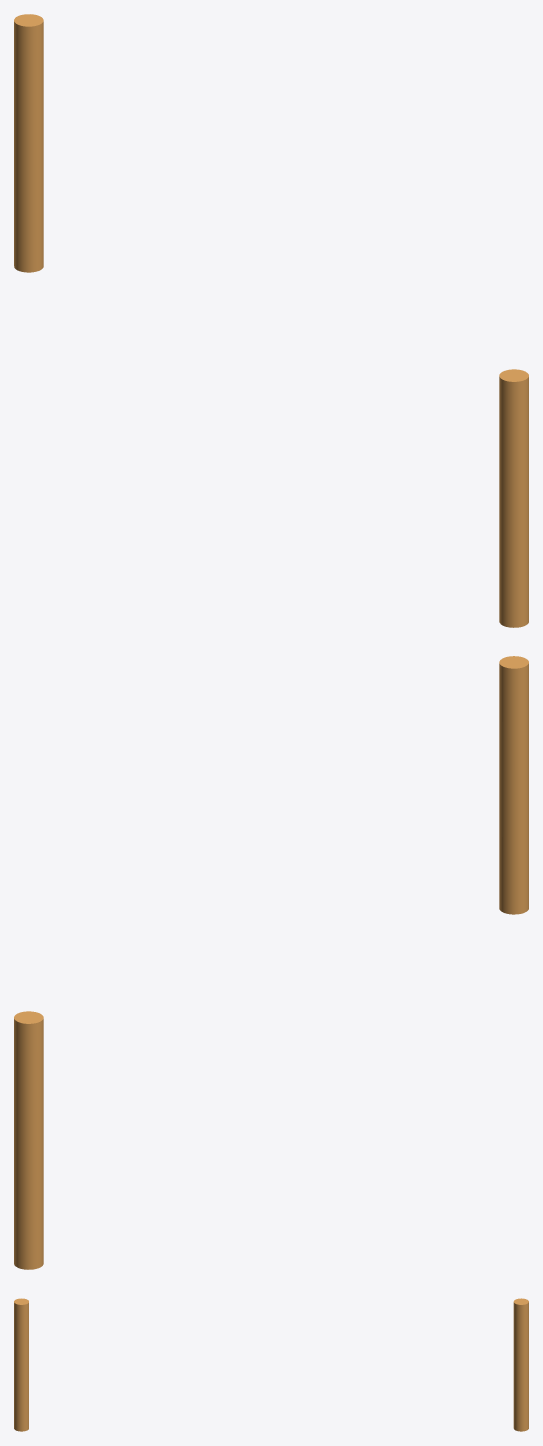
File: CONTROL__MECHANICAL STEERING__STEERING COMPONENTS__50mm dummy shafts.glb
The picture shows the model from 3 angles, top to bottom: view 1: azimuth 30°, elevation 25°; view 2: azimuth 150°, elevation 25°; view 3: azimuth 270°, elevation 25°; orthographic projection. The views are drawn at different scales.
Visible parts, largest first — view 1: Imported 18, Imported 19; view 2: Imported 19, Imported 18; view 3: Imported 19, Imported 18.
Boxes of the visible parts, left/top/right/bottom form: Imported 18: left=499, top=369, right=528, bottom=627; Imported 19: left=14, top=14, right=43, bottom=272; Imported 19: left=14, top=1011, right=43, bottom=1269; Imported 18: left=499, top=656, right=528, bottom=914; Imported 19: left=513, top=1298, right=528, bottom=1431; Imported 18: left=14, top=1298, right=28, bottom=1431.
Size of the model in its own units: 0.05 by 0.4572 by 1.69.
